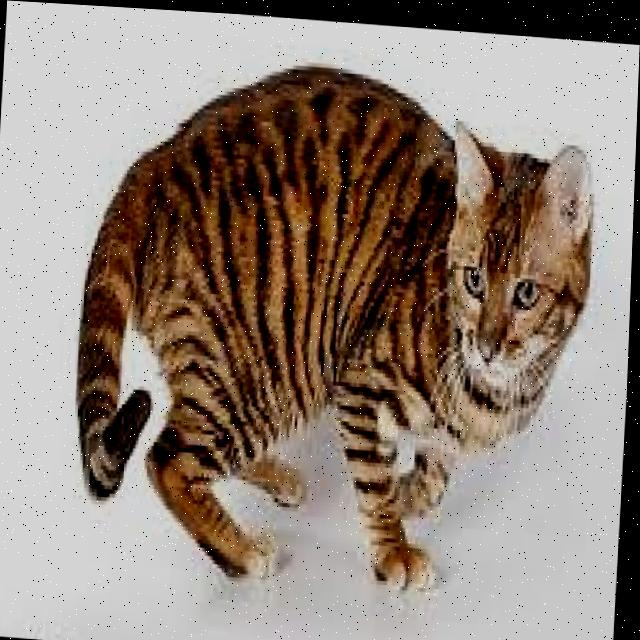Toyger: (64, 35, 606, 608)
